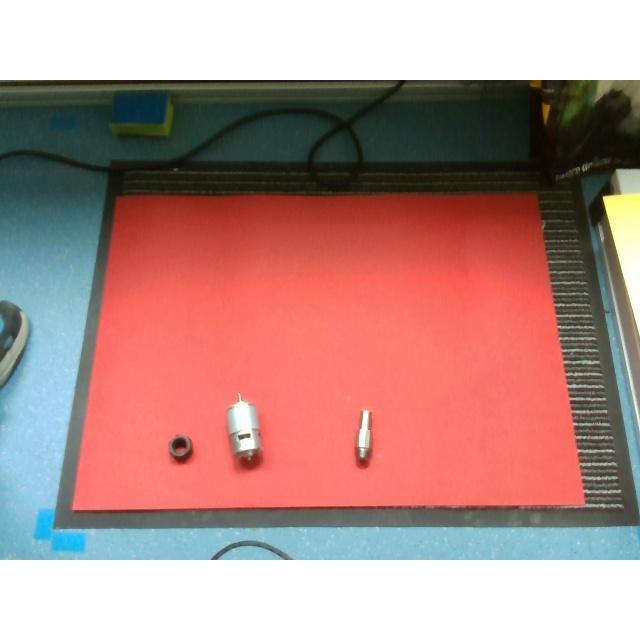Axis2: (353, 408, 372, 459)
M20: (168, 436, 192, 460)
Motor2: (226, 391, 264, 461)
